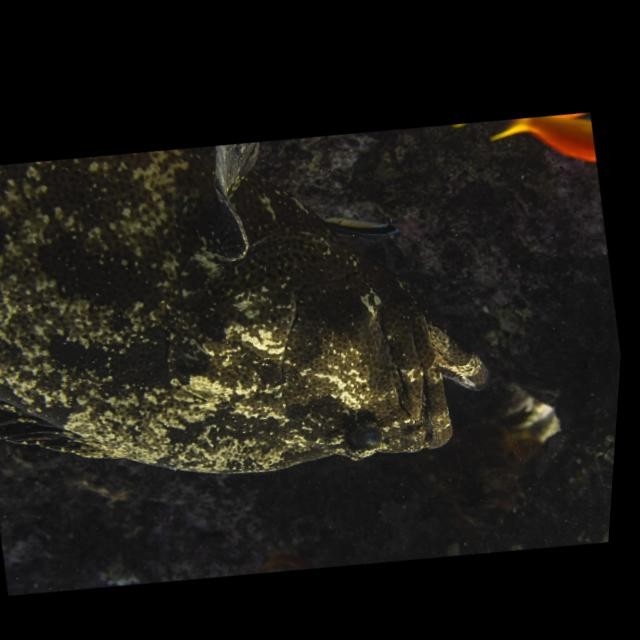Groupers: (0, 75, 520, 550)
